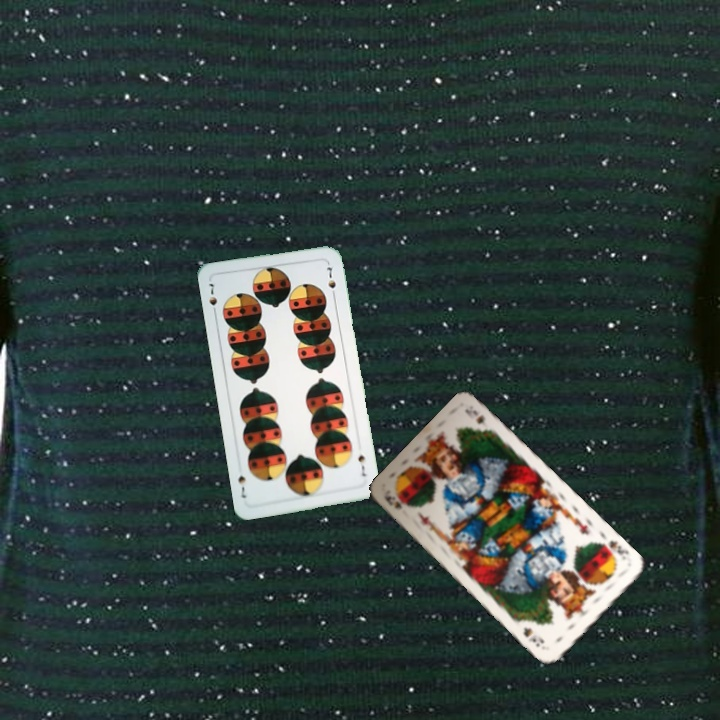S7: (204, 279, 220, 318), (354, 451, 368, 479)
SK: (596, 536, 632, 563), (380, 490, 405, 511)
